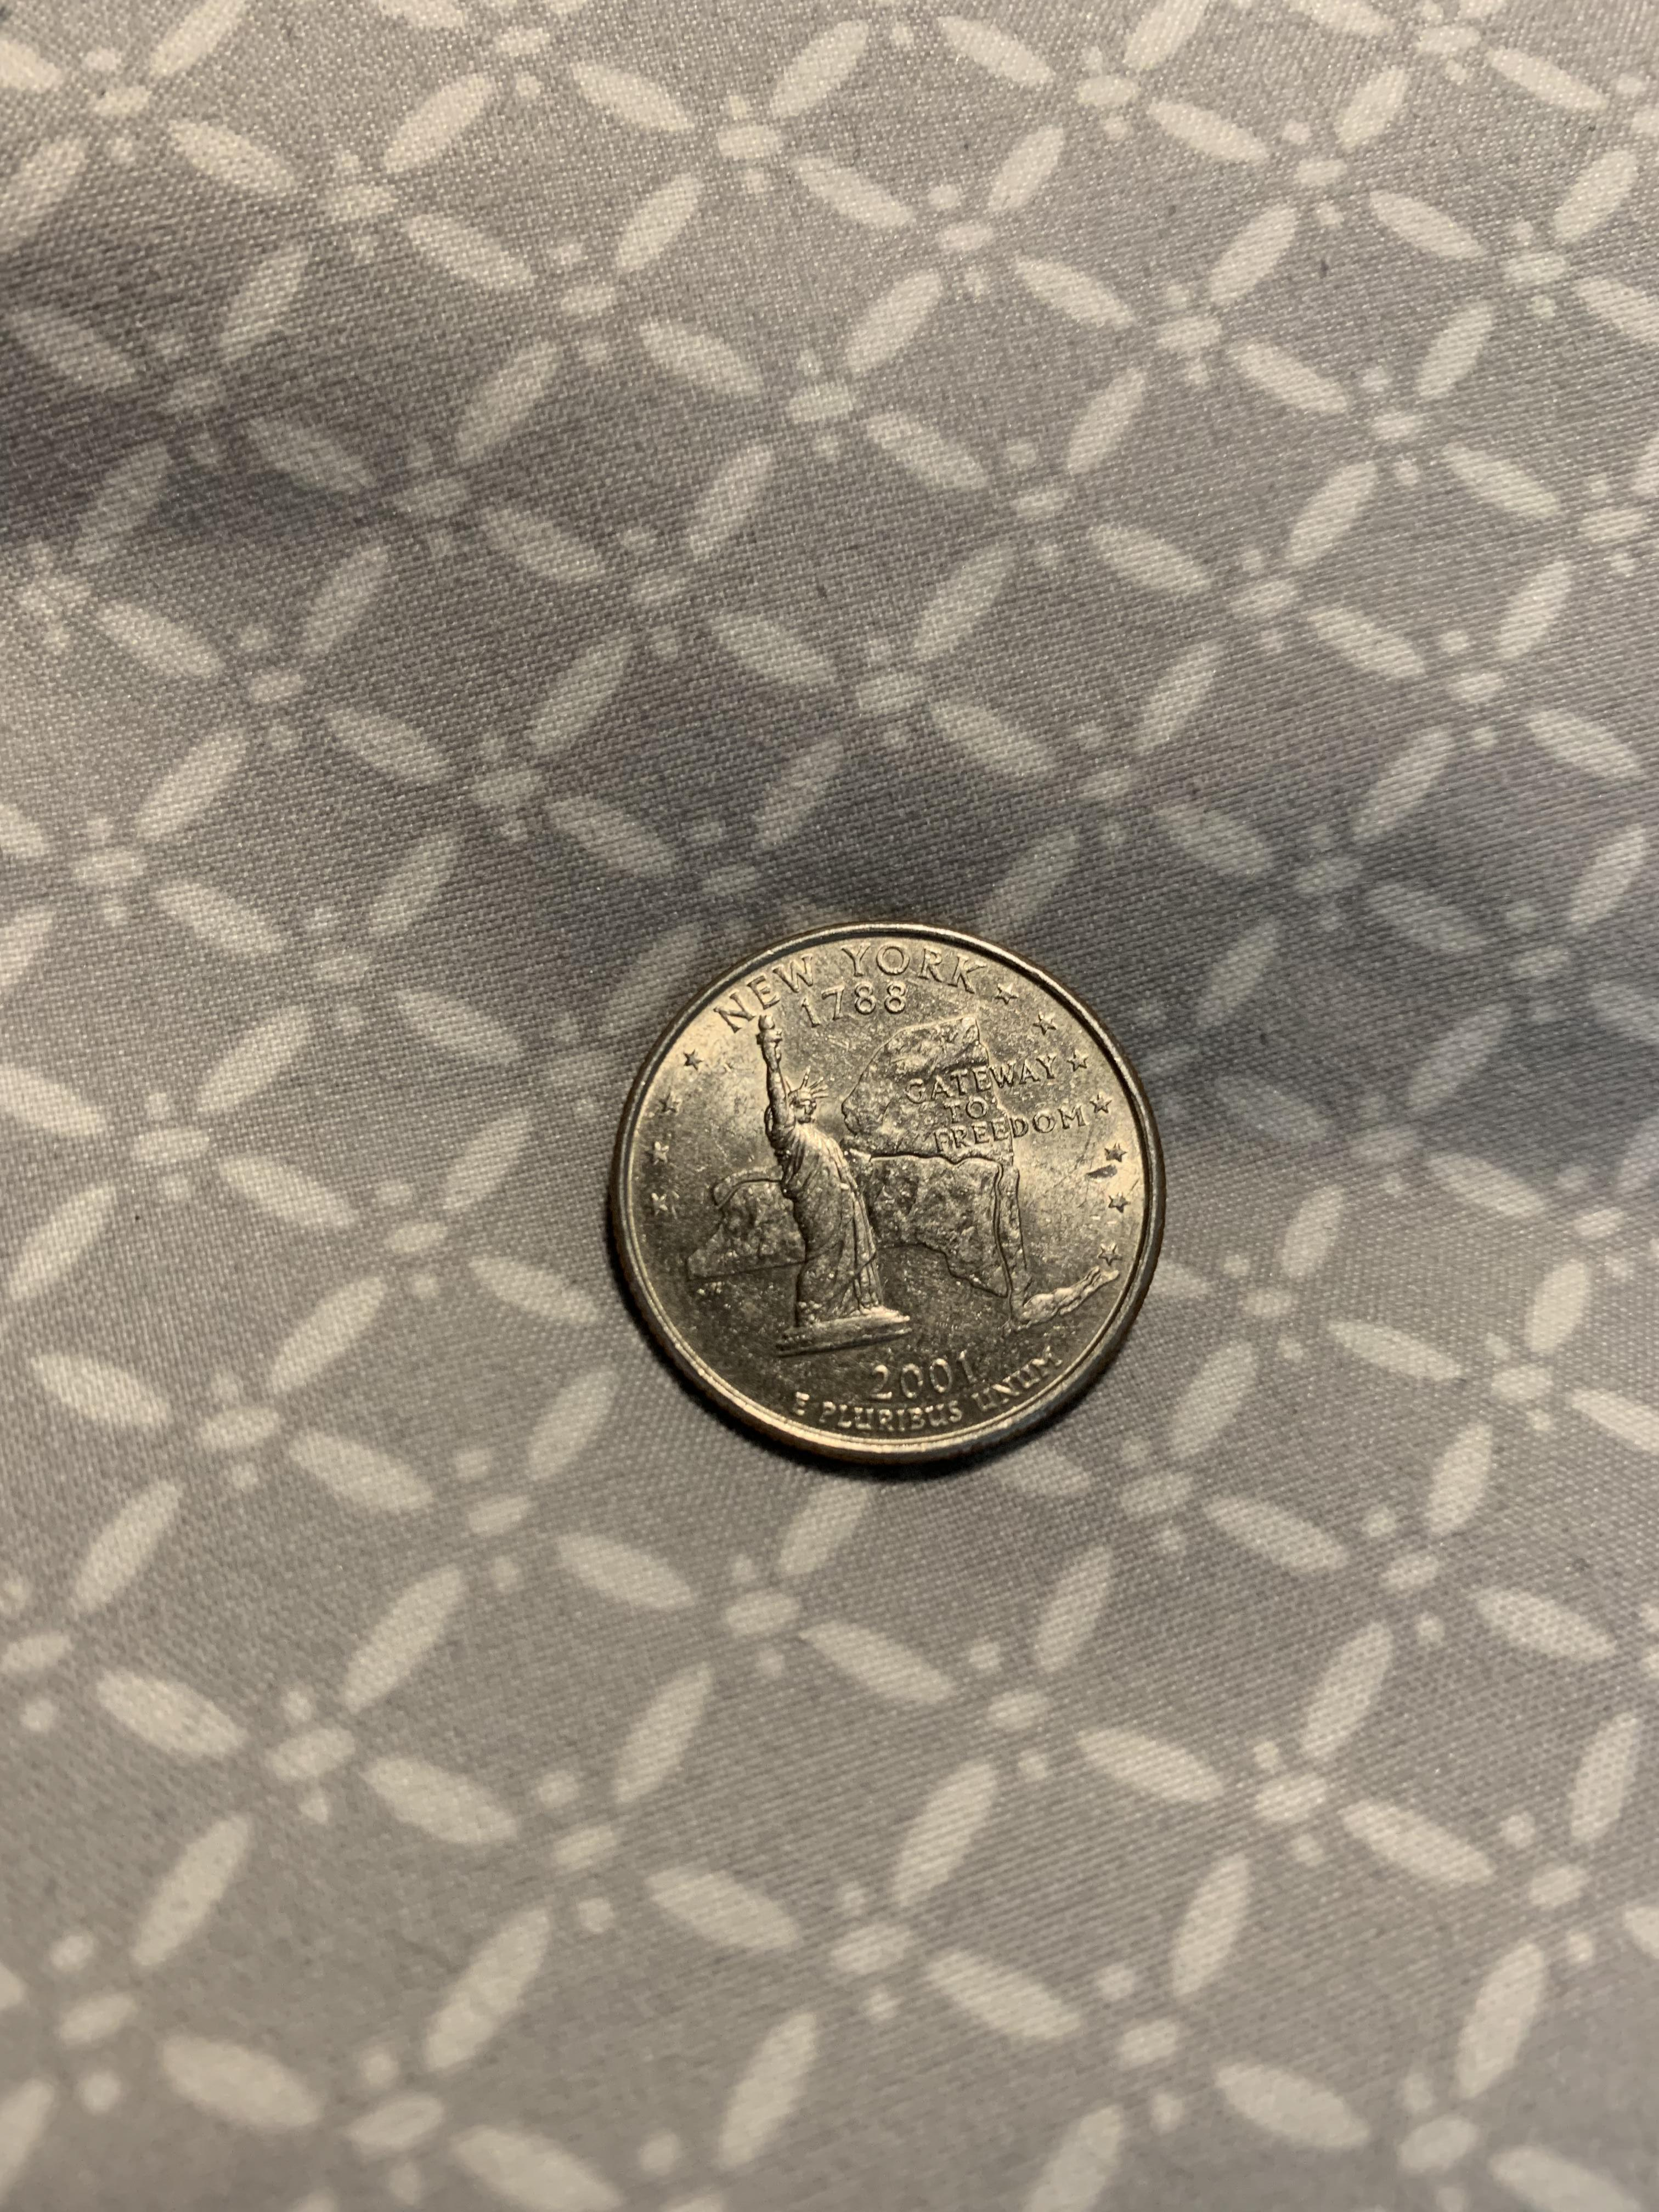Quarter: (579, 900, 1195, 1489)
